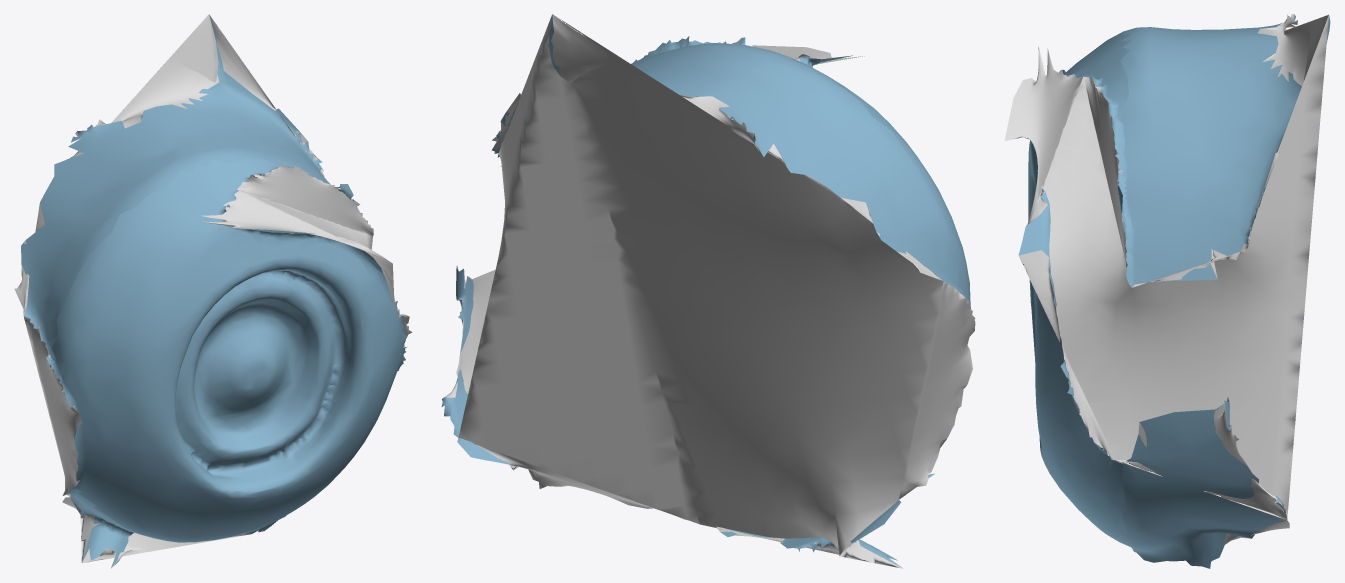
Rendered from Hi3D_Segmented Pastel Female Android 3D Model Asset_part29_20261014_192059.glb.
3 views of the same model, side by side, from view 1: azimuth 30°, elevation 25°; view 2: azimuth 150°, elevation 25°; view 3: azimuth 270°, elevation 25° (orthographic). The views are drawn at different scales.
Parts seen in each view (by area): view 1: Hi3D_Segmented Pastel Female Android 3D Model Asset_part29_2; view 2: Hi3D_Segmented Pastel Female Android 3D Model Asset_part29_2; view 3: Hi3D_Segmented Pastel Female Android 3D Model Asset_part29_2.
Part boxes in pixels (<box>): Hi3D_Segmented Pastel Female Android 3D Model Asset_part29_2: <box>14,14,412,568</box>; Hi3D_Segmented Pastel Female Android 3D Model Asset_part29_2: <box>441,14,975,568</box>; Hi3D_Segmented Pastel Female Android 3D Model Asset_part29_2: <box>1004,14,1330,568</box>.
Bounding box in the file's own units: 0.0324 × 0.0383 × 0.0205.
